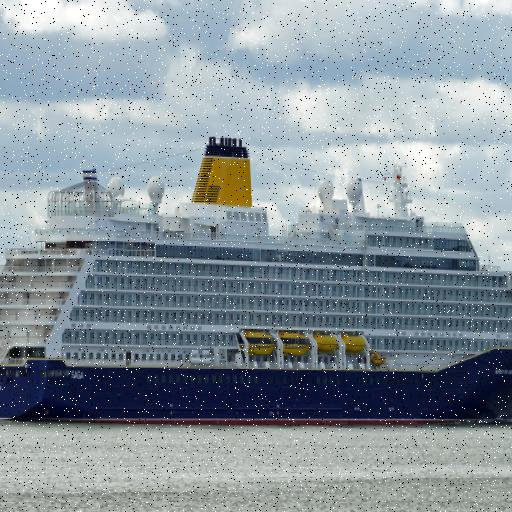cruises: (1, 134, 512, 431)
